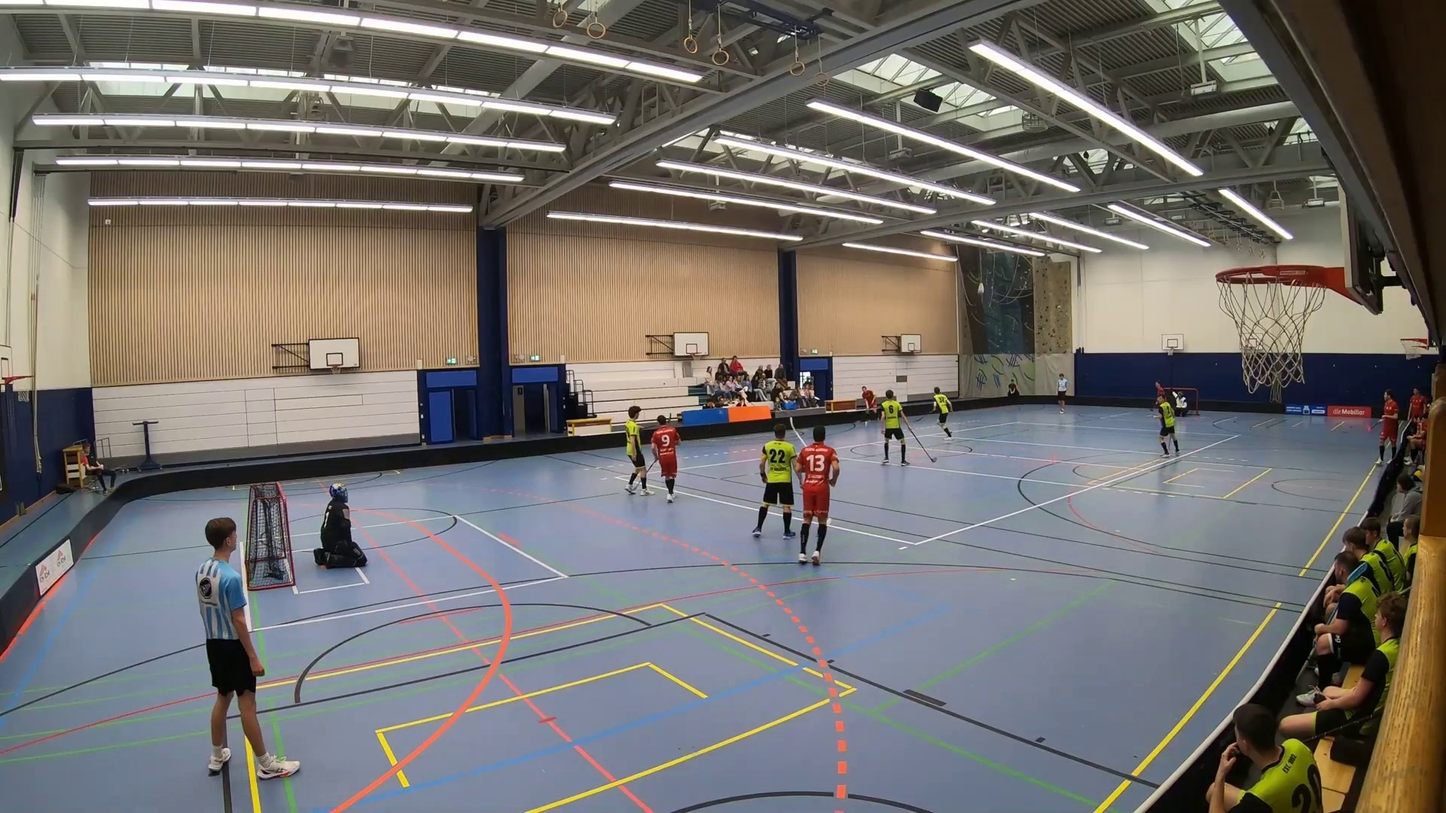ball: (864, 419, 868, 426)
goalkeeper: (313, 483, 367, 568), (1170, 387, 1189, 418)
player: (795, 425, 840, 564), (752, 424, 795, 537), (650, 415, 679, 501), (624, 405, 650, 495), (879, 388, 908, 464), (1375, 388, 1399, 464), (1156, 392, 1178, 455), (932, 385, 950, 437), (860, 385, 876, 419), (1155, 379, 1165, 396)
